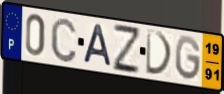0: (24, 12, 47, 59)
A: (82, 23, 113, 69)
C: (49, 16, 78, 65)
D: (145, 28, 175, 78)
G: (174, 35, 202, 83)
Z: (112, 22, 142, 76)
